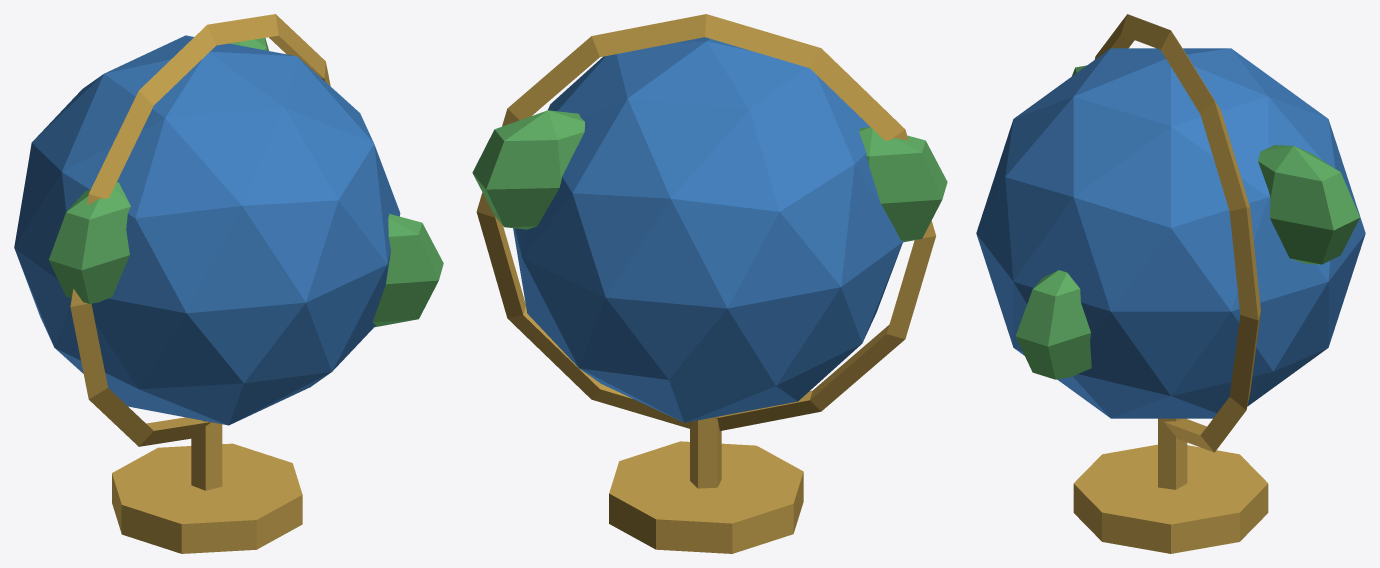
File: globe.fbx
3 views of the same model, side by side, from view 1: azimuth 30°, elevation 25°; view 2: azimuth 150°, elevation 25°; view 3: azimuth 270°, elevation 25° (orthographic). The views are drawn at different scales.
Parts seen in each view (by area): view 1: globe; view 2: globe; view 3: globe.
Part boxes in pixels (x1=…): globe: x1=14, y1=14, x2=443, y2=553; globe: x1=472, y1=14, x2=947, y2=553; globe: x1=976, y1=14, x2=1365, y2=553.
Bounding box in the file's own units: 1.06 × 1.31 × 0.96.
